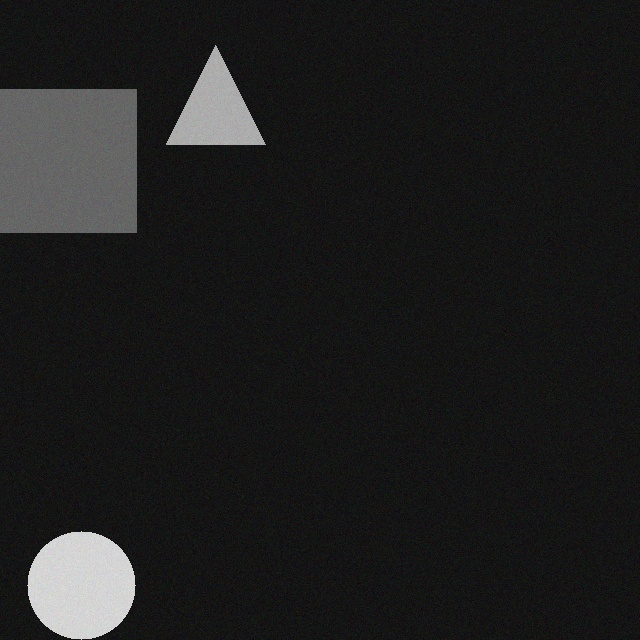circle: (34, 522, 142, 630)
square: (0, 80, 143, 223)
triangle: (173, 36, 272, 135)
